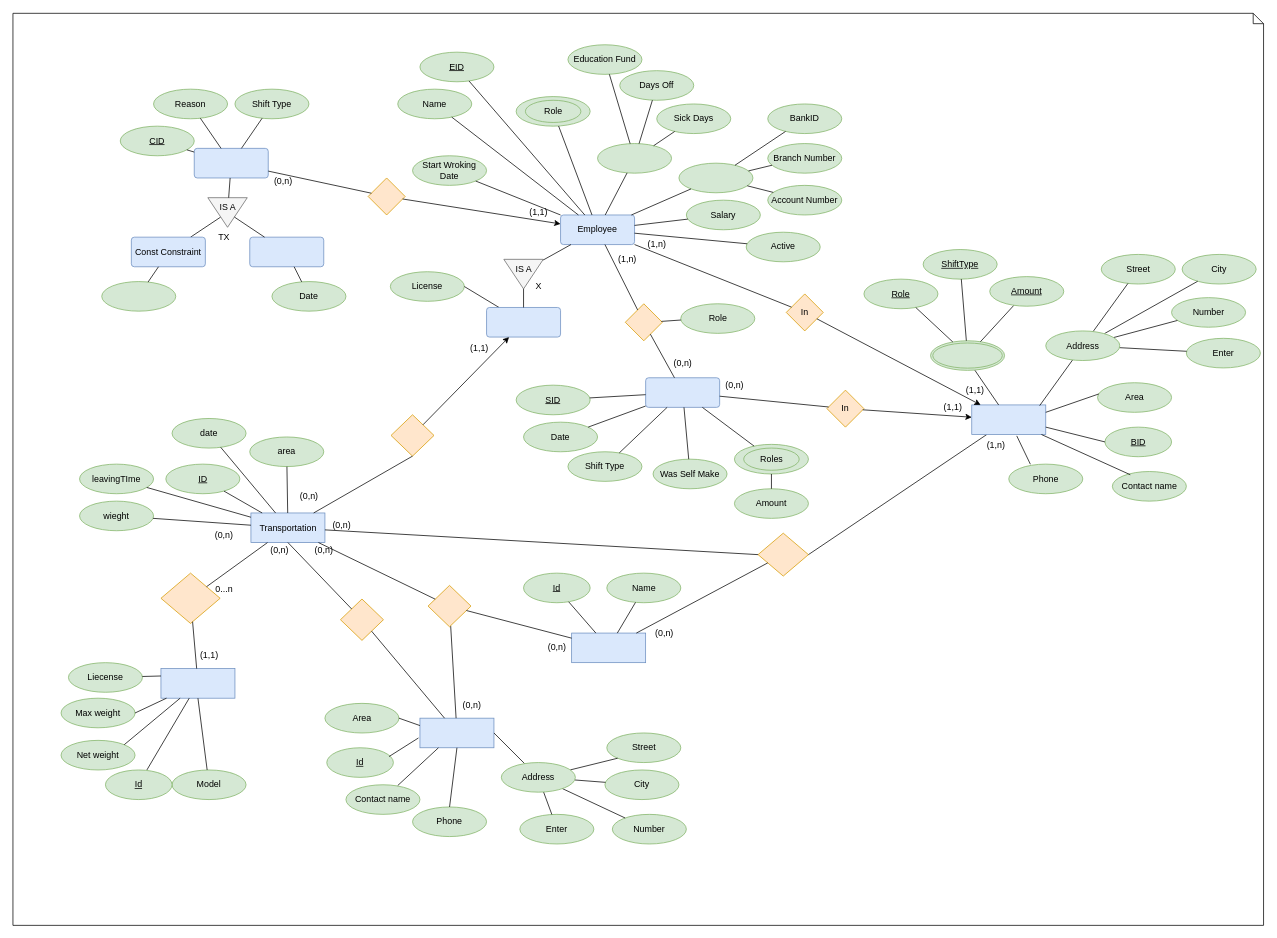
Some shapes in this 1277 by 938 pixel diagram are drawn without their labels. The shapes that lost their labels are listed below. From the top down, each one's box as (x1, y1, x2, y2) in pixels, then its label:
(194, 148, 268, 178): Constraint
(597, 143, 672, 173): Terms Of Employment
(678, 162, 753, 193): Bank Details
(367, 177, 405, 215): Has
(249, 236, 324, 267): Temp Constraint
(101, 281, 176, 311): Day Of Week
(486, 307, 561, 337): Driver
(625, 303, 662, 341): Works in
(930, 340, 1005, 370): Defualts
(645, 377, 720, 407): Shift
(390, 414, 434, 456): Drives at
(971, 404, 1046, 435): Branch
(757, 532, 808, 576): Supplie to
(160, 572, 220, 623): Execute in
(427, 585, 471, 627): Contains
(340, 598, 383, 640): Loads from
(571, 632, 646, 663): Item
(160, 668, 235, 698): Truck
(419, 717, 494, 748): Supplier
